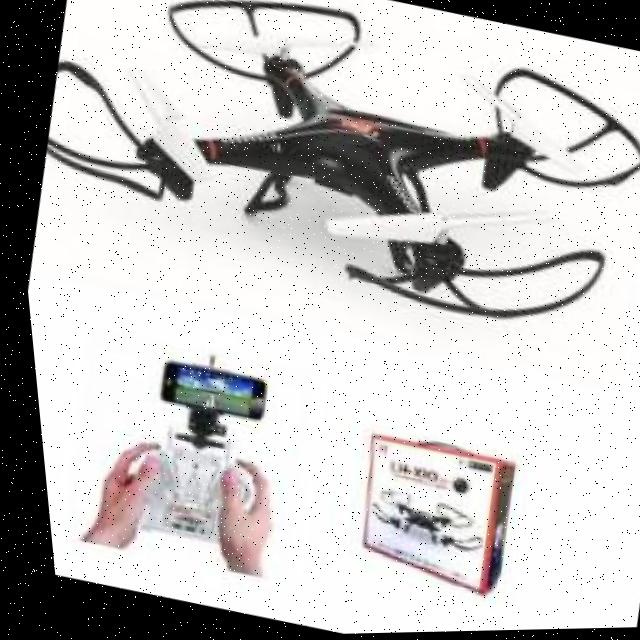drones: (9, 0, 640, 374)
